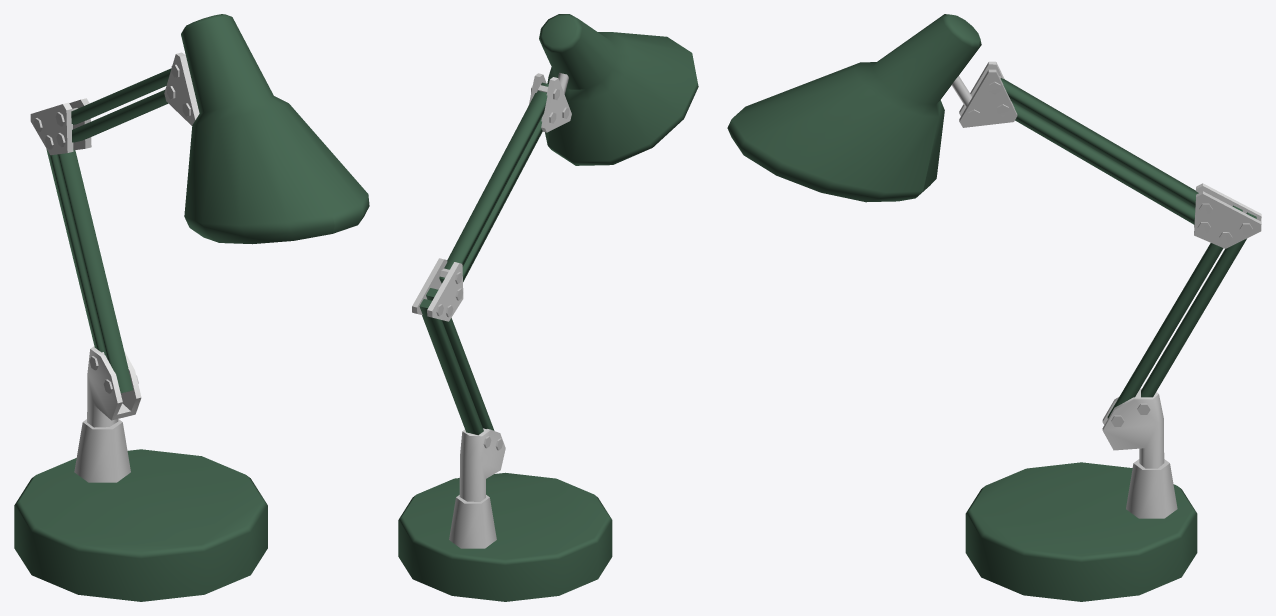
Rendered from electronics_016.fbx.
The picture shows the model from 3 angles, left to right: view 1: azimuth 30°, elevation 25°; view 2: azimuth 150°, elevation 25°; view 3: azimuth 270°, elevation 25°; orthographic projection. The views are drawn at different scales.
Visible parts, largest first — view 1: electronics_016; view 2: electronics_016; view 3: electronics_016.
Boxes of the visible parts, x1,y1,x2,y2 form: electronics_016: (14, 14, 369, 601); electronics_016: (398, 14, 698, 601); electronics_016: (727, 14, 1261, 601).
Bounding box in the file's own units: 28.68 × 66.17 × 73.21.
